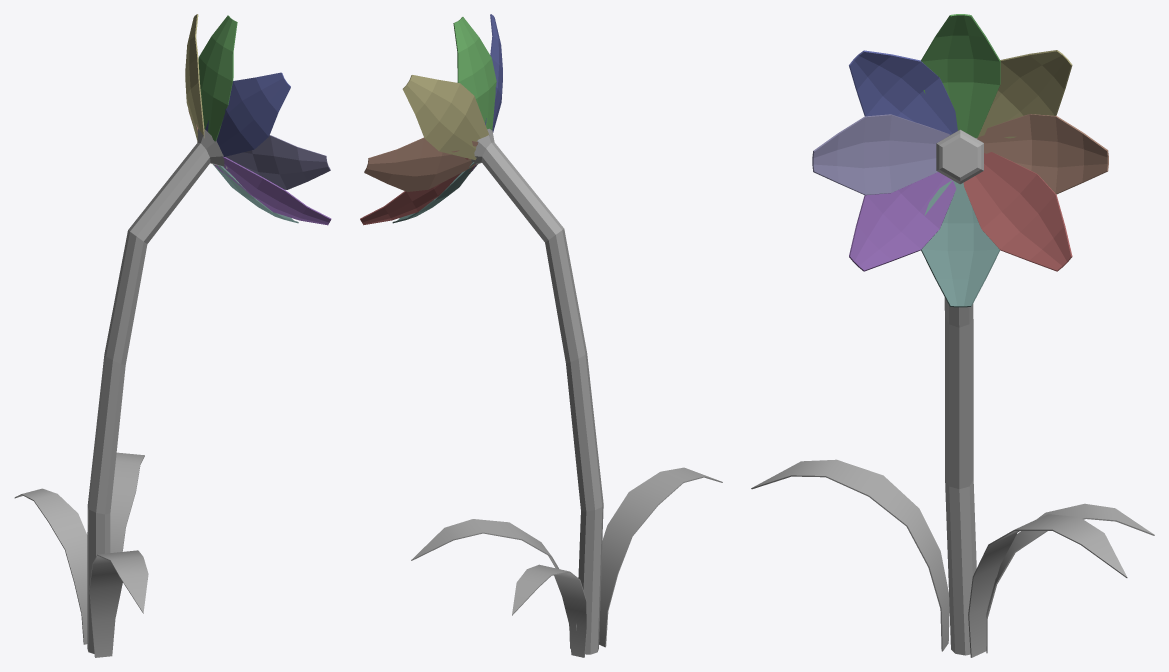
The model's file is Flores var1.fbx.
3 renders of one model, left to right at view 1: azimuth 30°, elevation 25°; view 2: azimuth 150°, elevation 25°; view 3: azimuth 270°, elevation 25°, orthographic. The views are drawn at different scales.
Parts seen in each view (by area): view 1: caule_geo, mato_geo1, petala_geo8, mato_geo2, petala_geo1, petala_geo7, petala_geo6, petala_geo2, petala_geo5; view 2: caule_geo, petala_geo2, mato_geo1, mato_geo2, petala_geo3, petala_geo1, petala_geo4, petala_geo8, petala_geo5; view 3: caule_geo, petala_geo4, petala_geo7, mato_geo1, petala_geo6, petala_geo3, petala_geo1, petala_geo8, petala_geo5, mato_geo2, petala_geo2, botao_geo.
Boxes of the visible parts, <box> form: caule_geo: <box>87,129,224,653</box>; mato_geo1: <box>14,452,144,644</box>; petala_geo8: <box>205,72,290,156</box>; mato_geo2: <box>89,550,148,657</box>; petala_geo1: <box>198,15,237,141</box>; petala_geo7: <box>225,135,330,189</box>; petala_geo6: <box>214,156,331,225</box>; petala_geo2: <box>185,14,204,141</box>; petala_geo5: <box>213,164,298,223</box>; caule_geo: <box>471,128,603,654</box>; petala_geo2: <box>402,75,489,159</box>; mato_geo1: <box>411,519,587,657</box>; mato_geo2: <box>599,467,722,647</box>; petala_geo3: <box>364,137,478,191</box>; petala_geo1: <box>453,17,496,130</box>; petala_geo4: <box>360,158,476,225</box>; petala_geo8: <box>485,14,502,132</box>; petala_geo5: <box>392,162,477,223</box>; caule_geo: <box>944,138,977,655</box>; petala_geo4: <box>963,152,1072,271</box>; petala_geo7: <box>812,114,949,195</box>; mato_geo1: <box>968,503,1154,657</box>; petala_geo6: <box>849,172,956,271</box>; petala_geo3: <box>977,114,1108,194</box>; petala_geo1: <box>921,14,1000,137</box>; petala_geo8: <box>849,50,957,134</box>; petala_geo5: <box>921,180,999,307</box>; mato_geo2: <box>751,459,949,651</box>; petala_geo2: <box>978,50,1072,138</box>; botao_geo: <box>936,129,983,184</box>.
Size of the model in its own units: 0.6323 by 1.5 by 0.7724.
